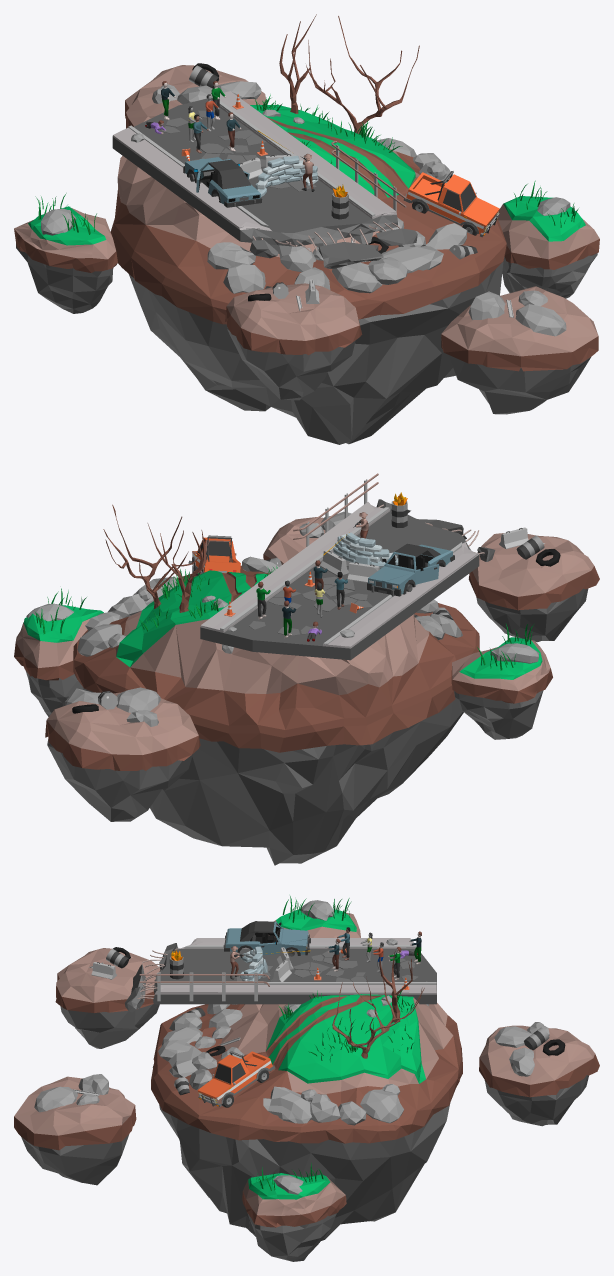
Rendered from land_17.fbx.
3 views of the same model, one above another, from view 1: azimuth 30°, elevation 25°; view 2: azimuth 150°, elevation 25°; view 3: azimuth 270°, elevation 25° (orthographic). The views are drawn at different scales.
Parts seen in each view (by area): view 1: land_17.047, land_17.003, land_14.082, land_14.078, land_14.092, land_14.080, land_17.013, land_17.035, land_17.018, land_14.095, land_17.062, land_17.051 (+13 smaller); view 2: land_17.047, land_17.003, land_14.095, land_14.078, land_14.080, land_14.092, land_17.018, land_17.060, land_17.051, land_17.028, land_17.013, land_17.017 (+8 smaller); view 3: land_17.047, land_17.003, land_14.082, land_14.095, land_14.078, land_14.092, land_17.013, land_17.018, land_17.044, land_17.035, land_17.028, land_14.080 (+8 smaller).
Part boxes in pixels (x1,y1,x2,y2): land_17.047: (110,105,506,444); land_17.003: (112,91,397,255); land_14.082: (441,286,598,414); land_14.078: (225,283,362,400); land_14.092: (497,196,599,298); land_14.080: (14,206,117,313); land_17.013: (403,171,499,237); land_17.035: (368,217,466,284); land_17.018: (183,157,262,207); land_14.095: (125,65,266,128); land_17.062: (468,290,566,336); land_17.051: (161,110,316,191); land_17.047: (73,565,479,865); land_17.003: (200,502,479,660); land_14.095: (45,692,200,821); land_14.078: (468,533,599,642); land_14.080: (451,637,552,739); land_14.092: (14,605,103,716); land_17.018: (367,543,454,596); land_17.060: (65,687,160,726); land_17.051: (249,561,372,636); land_17.028: (77,612,125,656); land_17.013: (188,535,240,575); land_17.017: (333,532,398,568); land_17.047: (151,994,462,1240); land_17.003: (153,938,436,1004); land_14.082: (14,1076,136,1185); land_14.095: (479,1025,599,1126); land_14.078: (55,948,160,1048); land_14.092: (242,1173,346,1261); land_17.013: (197,1051,274,1107); land_17.018: (223,921,310,956); land_17.044: (263,1086,340,1123); land_17.035: (158,1040,244,1090); land_17.028: (338,1084,404,1125); land_14.080: (268,909,360,937).
Bounding box in the file's own units: 25.77 × 16.62 × 28.69.
